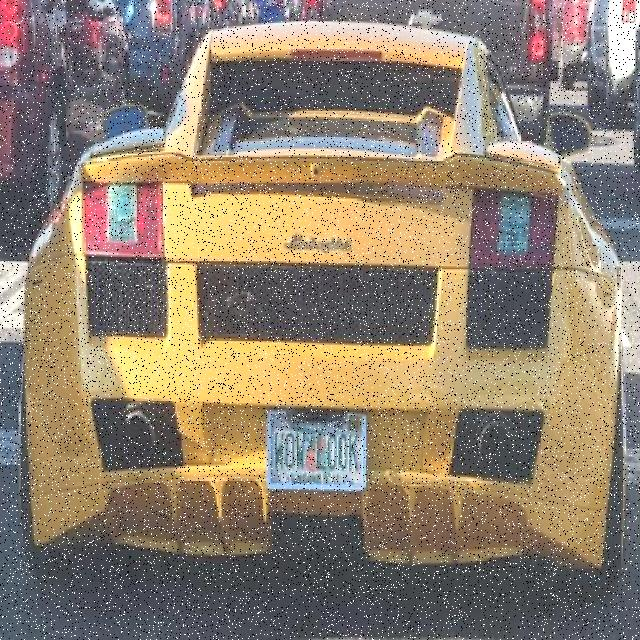licenseplate: (266, 411, 367, 491)
